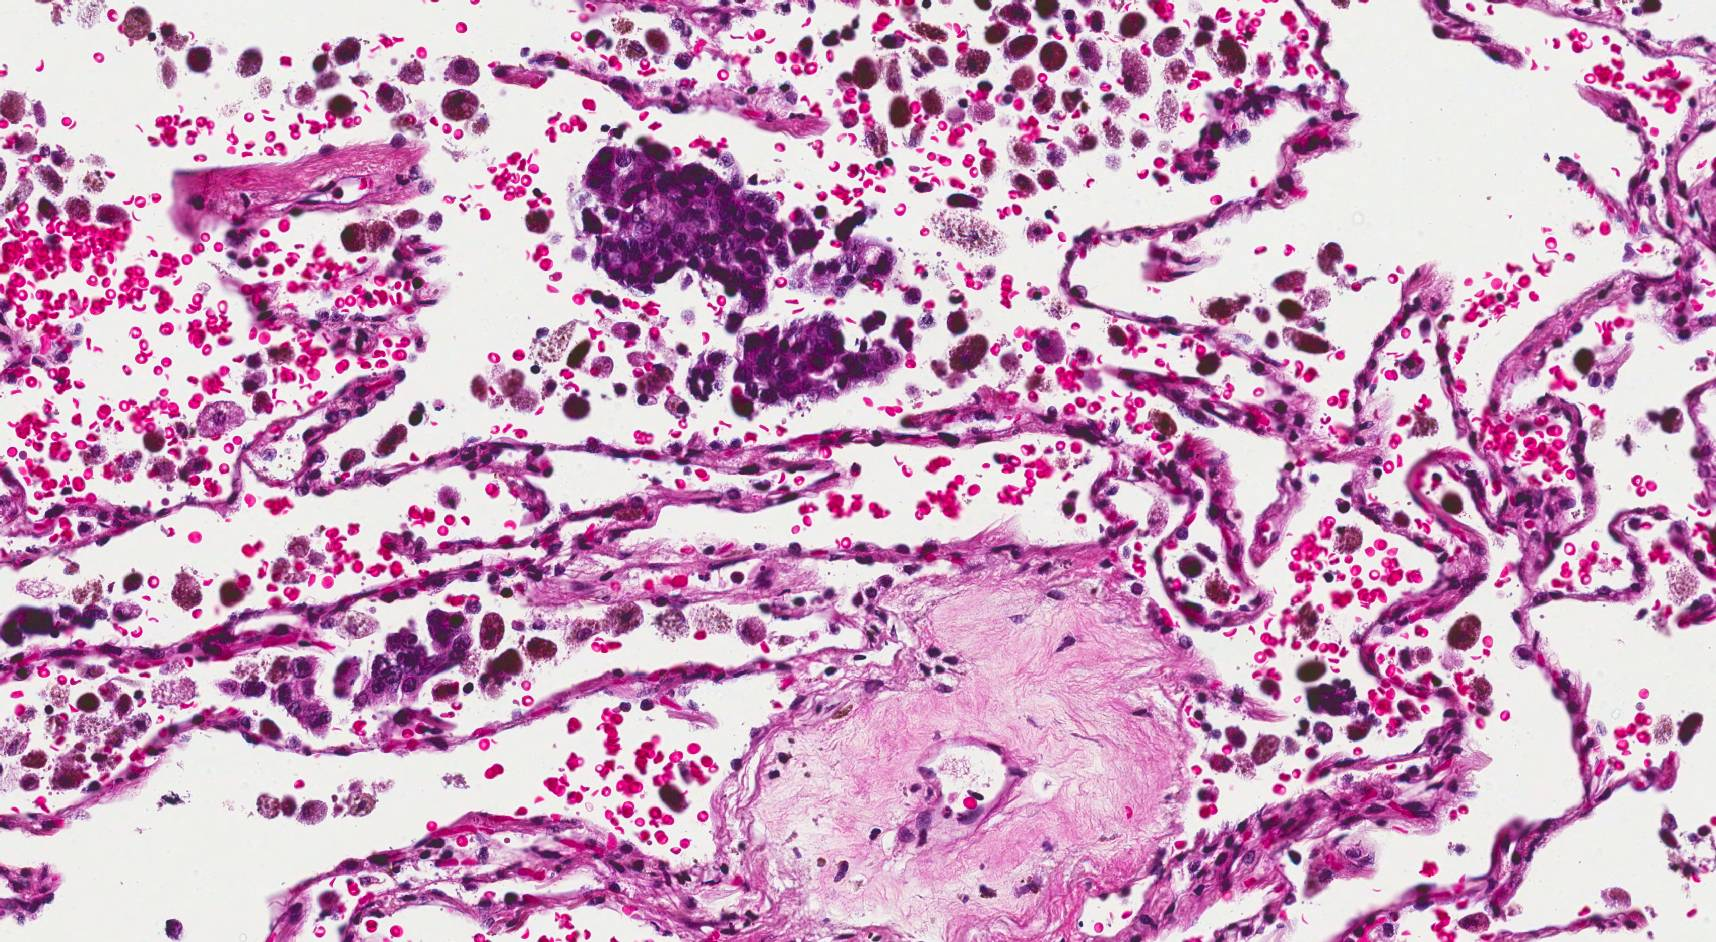stas: (572, 127, 819, 311), (731, 313, 903, 406), (333, 609, 479, 707)
